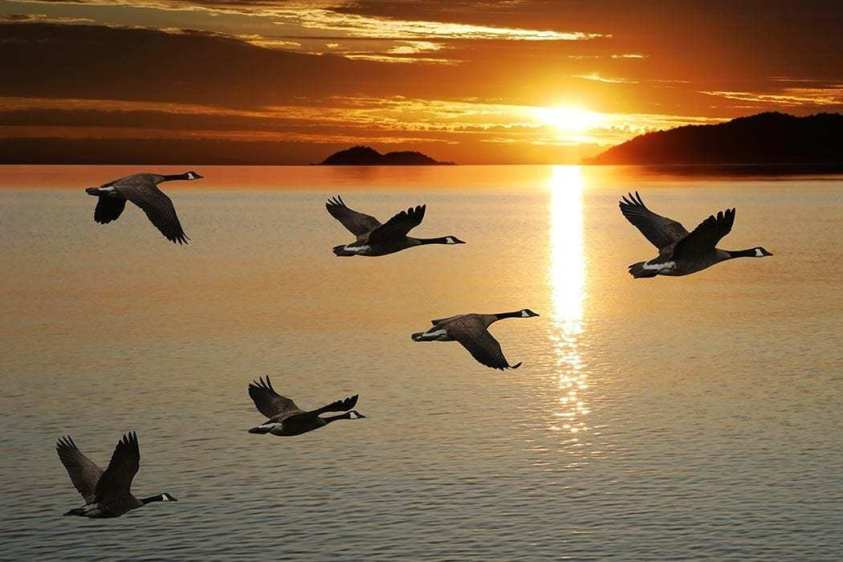goose: (611, 187, 776, 281), (53, 428, 178, 522), (323, 194, 469, 262), (82, 168, 205, 247), (406, 306, 540, 375), (242, 372, 367, 439)
